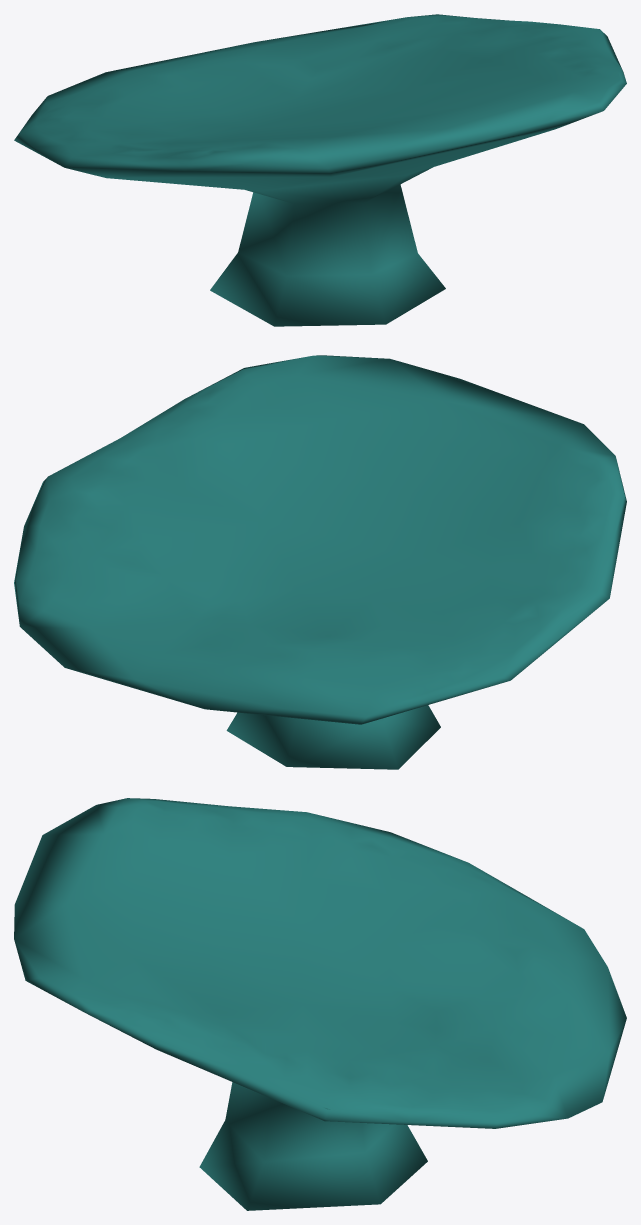
Rendered from my_mesh_Table_Coral.003.glb.
The picture shows the model from 3 angles, top to bottom: view 1: azimuth 30°, elevation 25°; view 2: azimuth 150°, elevation 25°; view 3: azimuth 270°, elevation 25°; orthographic projection. The views are drawn at different scales.
Visible parts, largest first — view 1: Table_Coral.003; view 2: Table_Coral.003; view 3: Table_Coral.003.
Boxes of the visible parts, x1,y1,x2,y2 form: Table_Coral.003: (14, 14, 626, 326); Table_Coral.003: (14, 355, 626, 769); Table_Coral.003: (14, 798, 626, 1210).
Bounding box in the file's own units: 11.66 × 4.96 × 10.25.
1 material, 1 textured.
